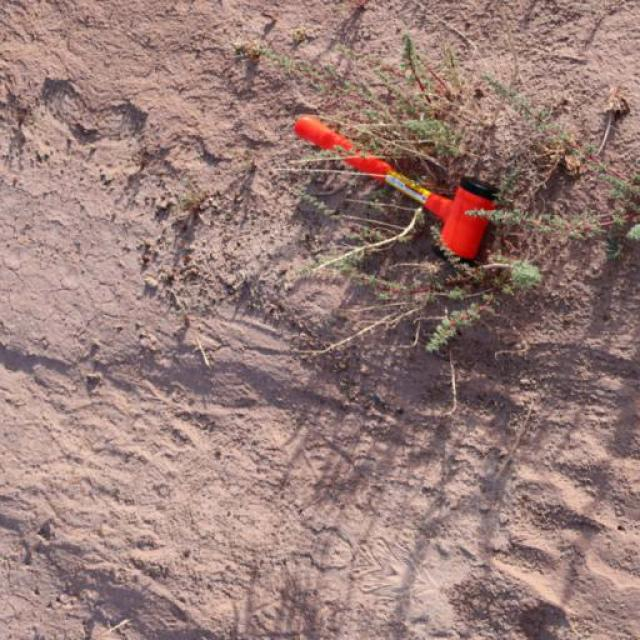mallet: (292, 112, 498, 264)
